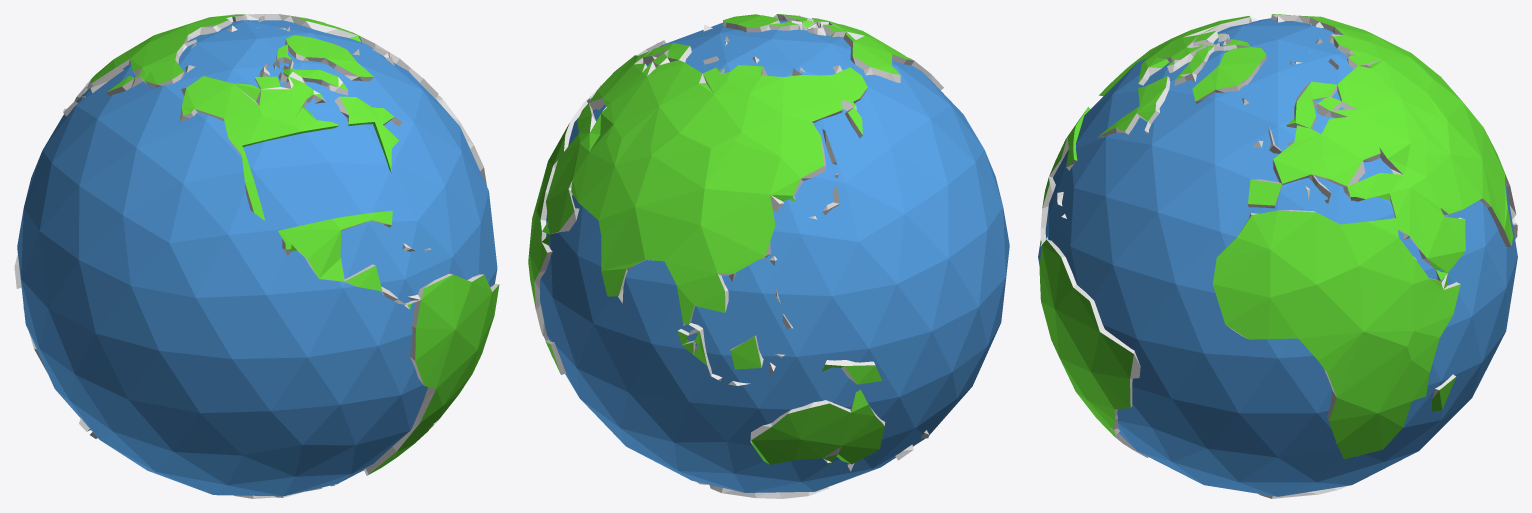
Rendered from earth_4.glb.
3 views of the same model, side by side, from view 1: azimuth 30°, elevation 25°; view 2: azimuth 150°, elevation 25°; view 3: azimuth 270°, elevation 25° (orthographic).
Parts seen in each view (by area): view 1: Icosphere.001, Sphere.002; view 2: Icosphere.001, Sphere.002; view 3: Icosphere.001, Sphere.002.
Part boxes in pixels (<box>): Icosphere.001: <box>17,20,497,496</box>; Sphere.002: <box>14,14,499,498</box>; Icosphere.001: <box>540,20,1009,492</box>; Sphere.002: <box>528,14,943,498</box>; Icosphere.001: <box>1038,18,1517,496</box>; Sphere.002: <box>1039,14,1517,498</box>.
Bounding box in the file's own units: 2.08 × 2.09 × 2.07.
